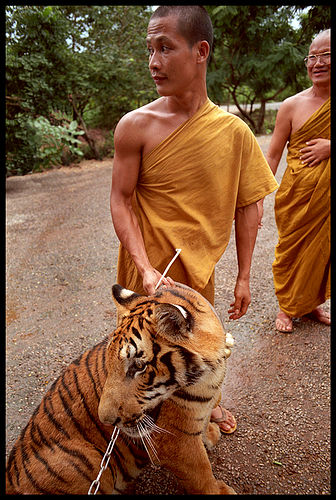Tigre: (6, 274, 252, 493)
